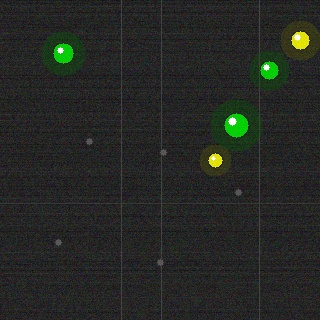green_normal: (222, 111, 250, 139), (51, 41, 75, 65), (258, 59, 280, 81)
yellow_warning: (289, 29, 311, 51), (206, 151, 224, 169)
